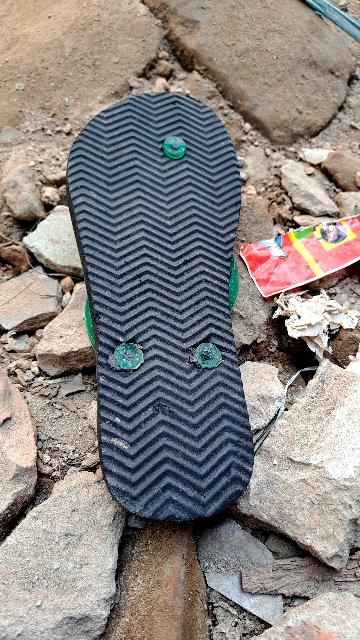sandal: (62, 77, 267, 528)
